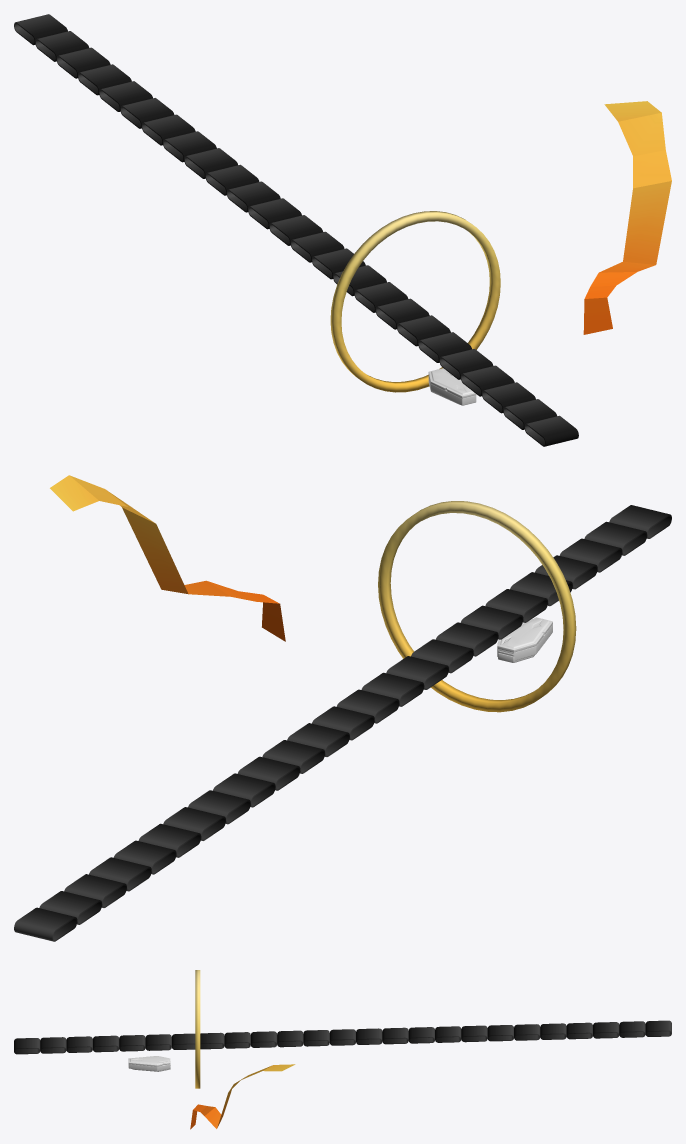
The model's file is Prefabs_items.fbx.
The picture shows the model from 3 angles, top to bottom: view 1: azimuth 30°, elevation 25°; view 2: azimuth 150°, elevation 25°; view 3: azimuth 270°, elevation 25°; orthographic projection. The views are drawn at different scales.
Visible parts, largest first — view 1: ITM_Tapis.001, ITM_Lave, ITM_door, ITM_DestroyedCoffin.001; view 2: ITM_Tapis.001, ITM_door, ITM_Lave, ITM_DestroyedCoffin.001; view 3: ITM_Tapis.001, ITM_Lave, ITM_door, ITM_DestroyedCoffin.001.
Part boxes in pixels (x1,y1,x2,y2): ITM_Tapis.001: (14, 14, 578, 446); ITM_Lave: (583, 101, 671, 334); ITM_door: (330, 211, 500, 392); ITM_DestroyedCoffin.001: (428, 368, 476, 405); ITM_Tapis.001: (14, 505, 671, 941); ITM_door: (378, 501, 576, 712); ITM_Lave: (50, 475, 285, 641); ITM_DestroyedCoffin.001: (497, 617, 552, 660); ITM_Tapis.001: (14, 1020, 671, 1054); ITM_Lave: (190, 1064, 295, 1129); ITM_door: (195, 970, 200, 1088); ITM_DestroyedCoffin.001: (128, 1056, 170, 1071).
Size of the model in its own units: 22.83 by 9.92 by 54.97.
